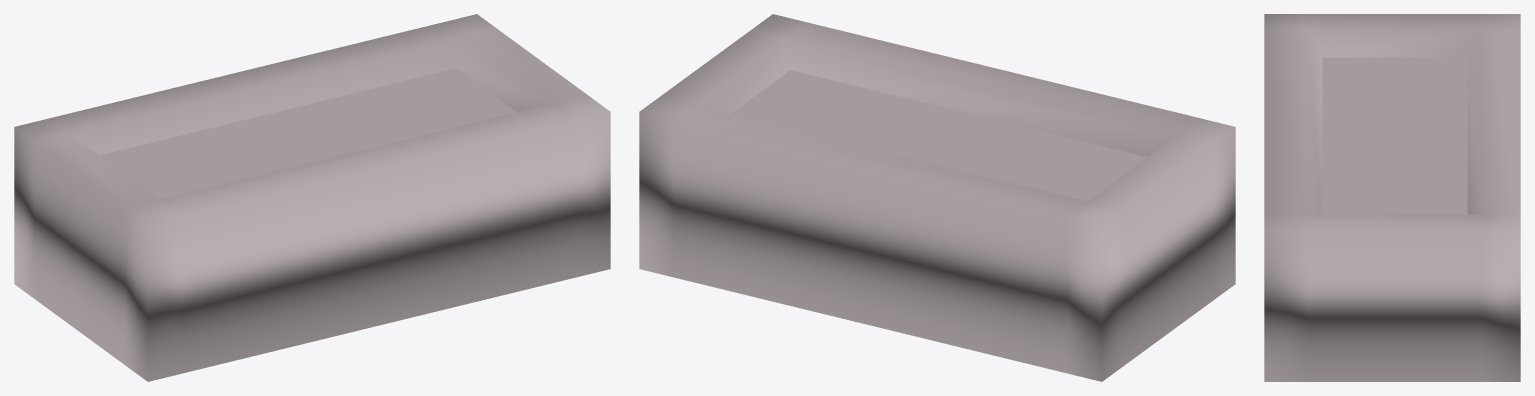
Rendered from Item_FrnIngot.fbx.
3 views of the same model, side by side, from view 1: azimuth 30°, elevation 25°; view 2: azimuth 150°, elevation 25°; view 3: azimuth 270°, elevation 25° (orthographic). The views are drawn at different scales.
Visible parts, largest first — view 1: Cube.003; view 2: Cube.003; view 3: Cube.003.
Boxes of the visible parts, bbox=[...] form: Cube.003: bbox=[14, 14, 610, 381]; Cube.003: bbox=[639, 14, 1235, 381]; Cube.003: bbox=[1264, 14, 1520, 381].
Bounding box in the file's own units: 0.4 × 0.13 × 0.2.
